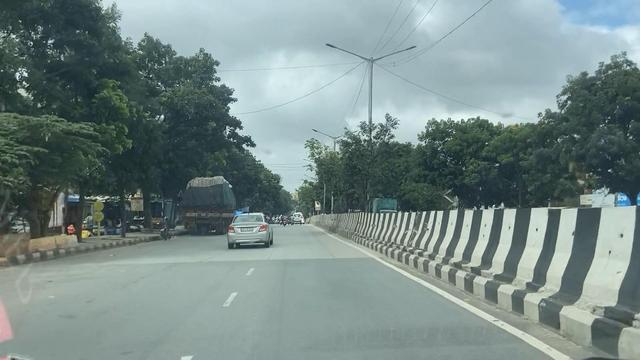LMV: (223, 209, 273, 245)
